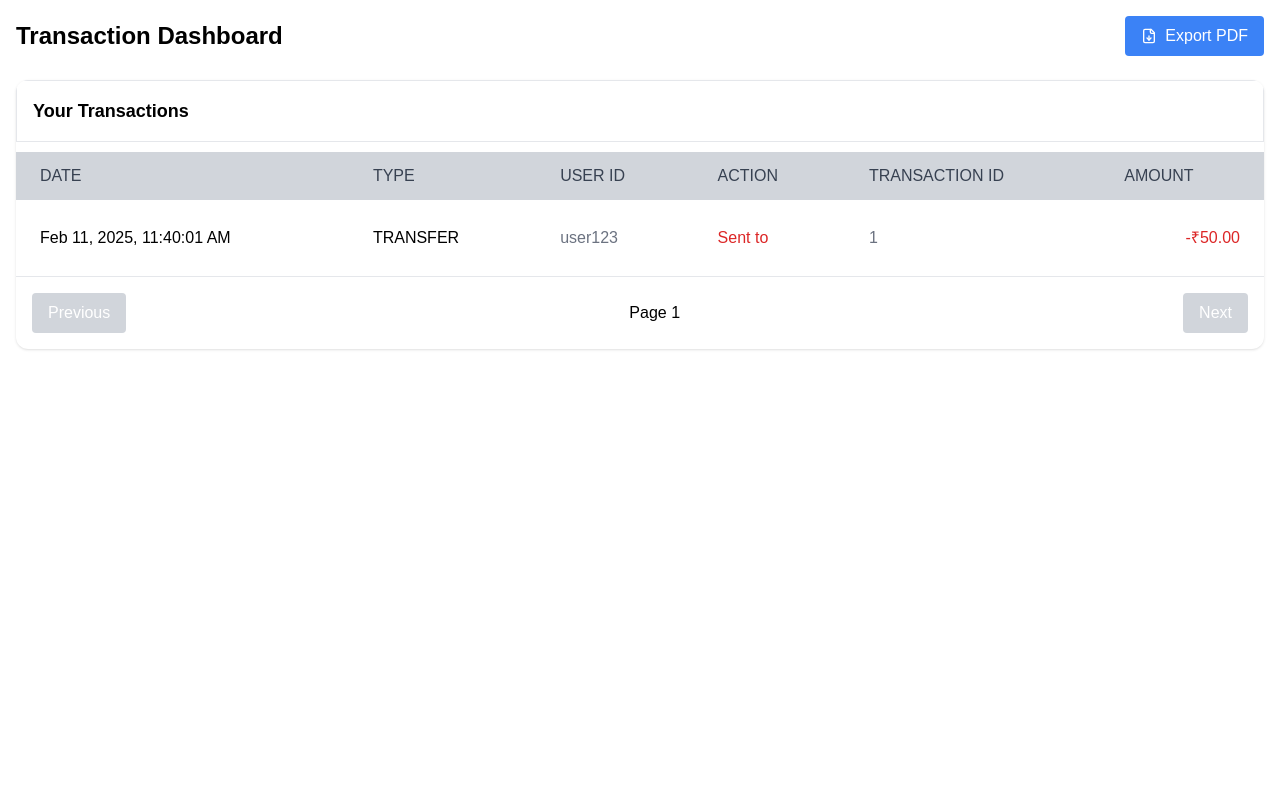
Test case: TransactionsView Component › Transaction Modal Interactions › displays correct transaction details in modal
This screenshot has width=1280, height=800.
Step 1. Click the row "Feb 11, 2025, 11:40:01 AM TRANSFER user123 Sent to 1 -₹50.00" → coordinates (640, 238), box [16,210,1264,266]
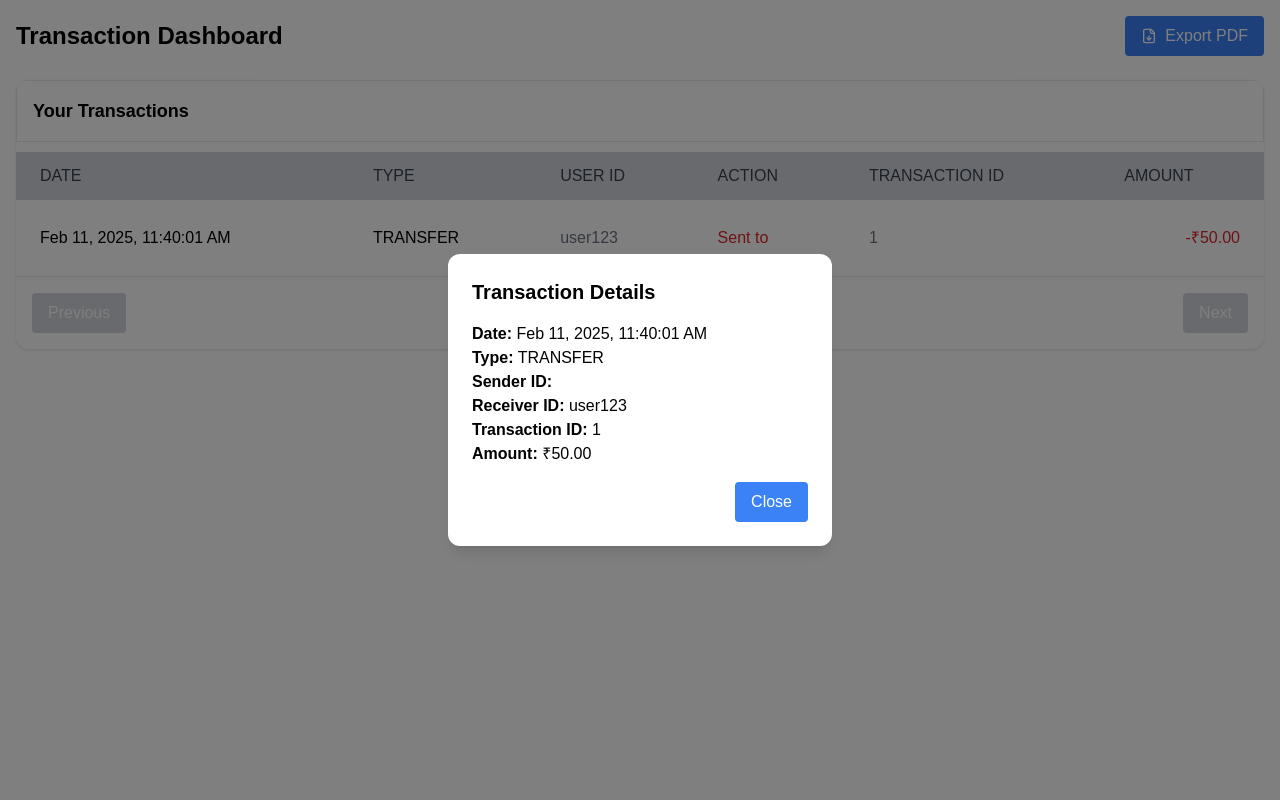
Expected: the heading "Transaction Details" is shown, [472,281,655,303]
Expected: the text "Type:" is shown, [472,349,514,366]
Expected: the text "Amount:" is shown, [472,445,538,462]
